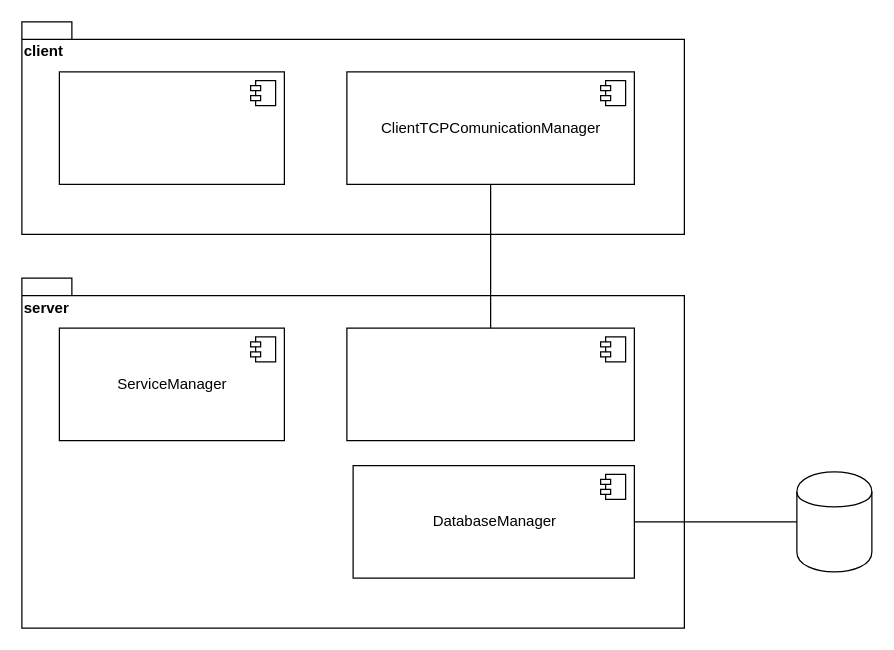
This 894x650 diagram has some shape labels left out. The box of each missing label's shape, as (x1, y1, x2, y2) in pixels:
ServerTCPComunicationManager: (346, 327, 634, 441)
UserInterfaceManager: (58, 71, 284, 184)
